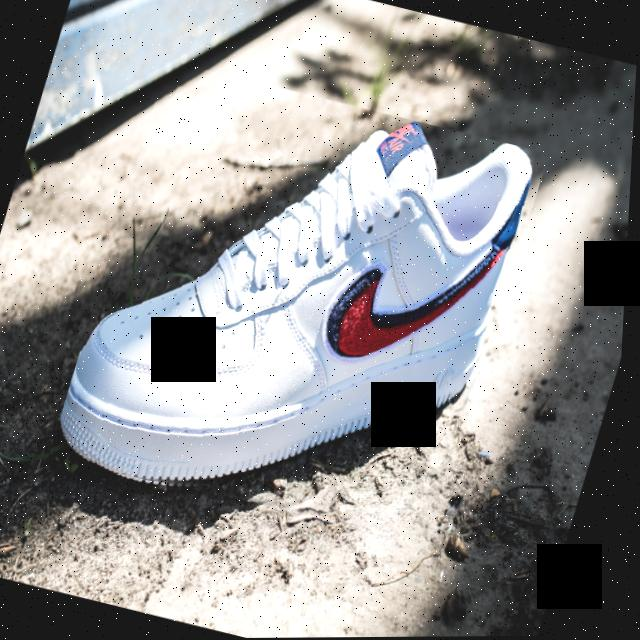shoe: (48, 58, 555, 555)
